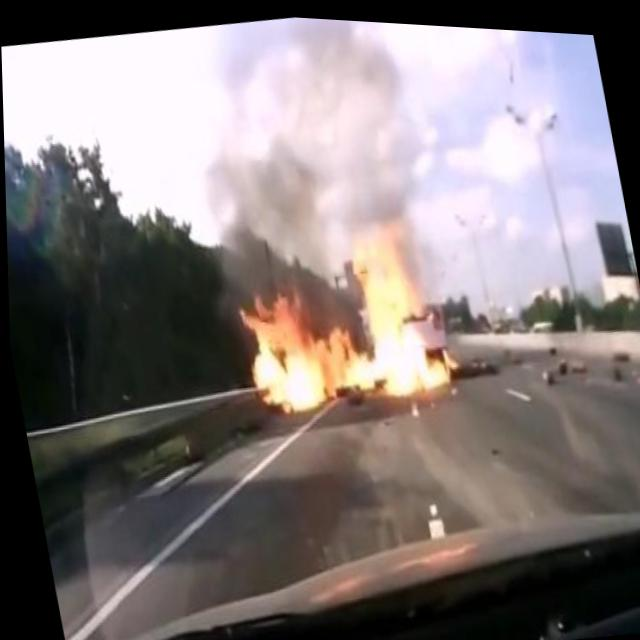fire: (218, 196, 462, 434)
